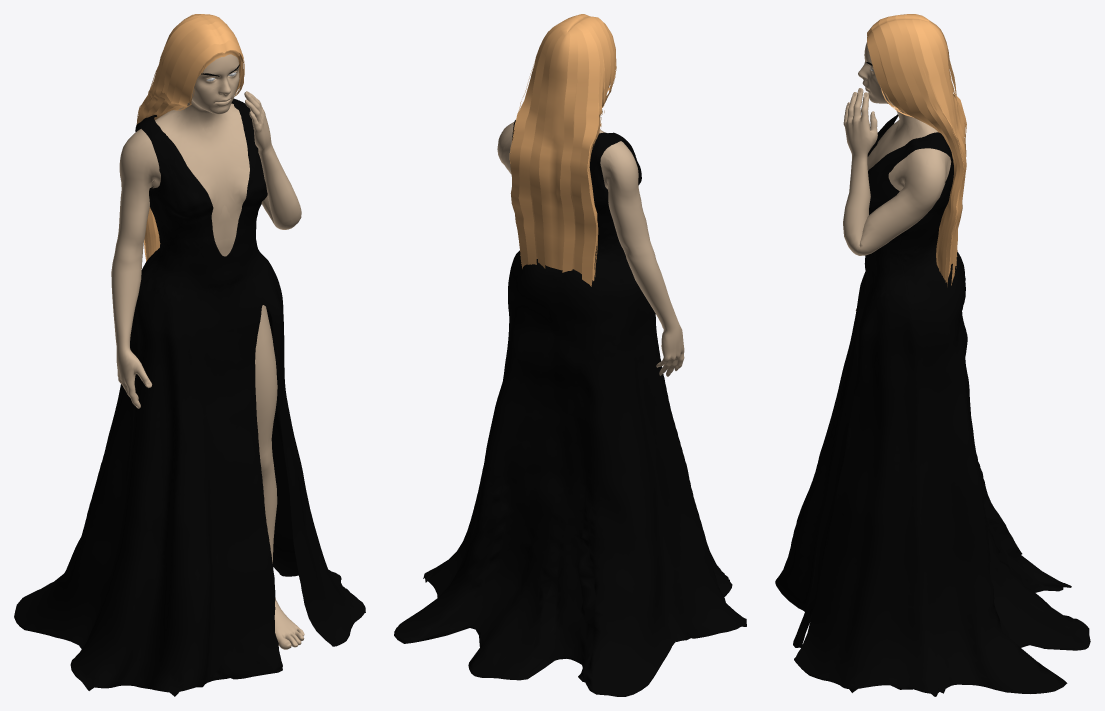
Rendered from woman.fbx.
3 renders of one model, left to right at view 1: azimuth 30°, elevation 25°; view 2: azimuth 150°, elevation 25°; view 3: azimuth 270°, elevation 25°, orthographic. The views are drawn at different scales.
Visible parts, largest first — view 1: Gamejam2020gamelabfemale:Elvs_evening_gown1, Gamejam2020gamelabfemale:Proxy, Gamejam2020gamelabfemale:Long01, Gamejam2020gamelabfemale:Body; view 2: Gamejam2020gamelabfemale:Elvs_evening_gown1, Gamejam2020gamelabfemale:Long01, Gamejam2020gamelabfemale:Proxy, Gamejam2020gamelabfemale:Body; view 3: Gamejam2020gamelabfemale:Elvs_evening_gown1, Gamejam2020gamelabfemale:Long01, Gamejam2020gamelabfemale:Proxy, Gamejam2020gamelabfemale:Body.
Boxes of the visible parts, left/top/right/bottom form: Gamejam2020gamelabfemale:Elvs_evening_gown1: left=14, top=98, right=365, bottom=696; Gamejam2020gamelabfemale:Proxy: left=111, top=54, right=304, bottom=649; Gamejam2020gamelabfemale:Long01: left=136, top=14, right=244, bottom=261; Gamejam2020gamelabfemale:Body: left=113, top=74, right=301, bottom=632; Gamejam2020gamelabfemale:Elvs_evening_gown1: left=394, top=120, right=746, bottom=696; Gamejam2020gamelabfemale:Long01: left=509, top=14, right=616, bottom=286; Gamejam2020gamelabfemale:Proxy: left=498, top=122, right=684, bottom=376; Gamejam2020gamelabfemale:Body: left=497, top=122, right=673, bottom=308; Gamejam2020gamelabfemale:Elvs_evening_gown1: left=775, top=114, right=1090, bottom=696; Gamejam2020gamelabfemale:Long01: left=867, top=14, right=966, bottom=286; Gamejam2020gamelabfemale:Proxy: left=843, top=42, right=950, bottom=310; Gamejam2020gamelabfemale:Body: left=848, top=104, right=950, bottom=255.
Size of the model in its own units: 835 by 1688 by 772.
